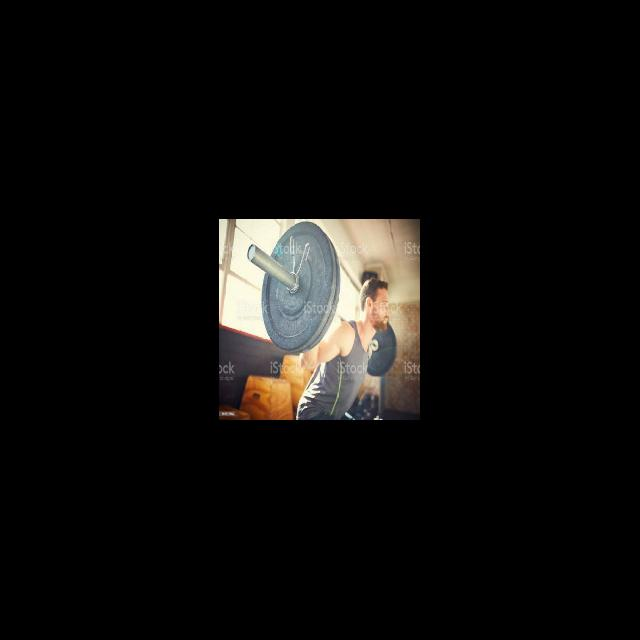barbell: (246, 219, 343, 354)
